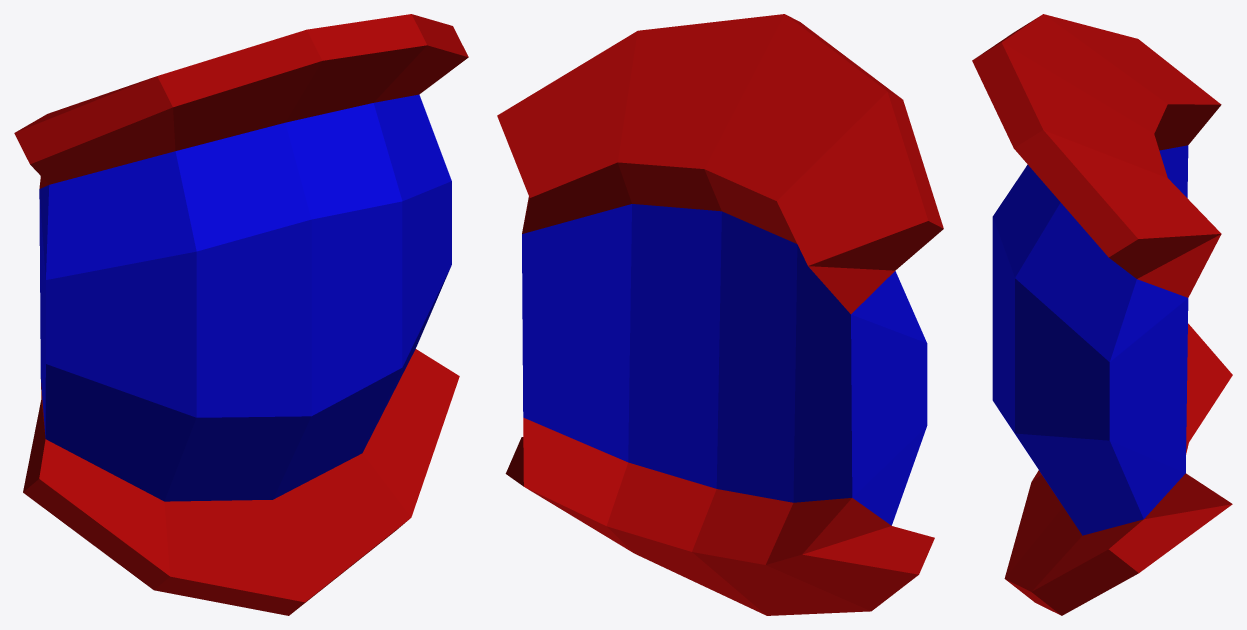
File: Chr_KneeAttachLeft_Static_08.fbx
3 views of the same model, side by side, from view 1: azimuth 30°, elevation 25°; view 2: azimuth 150°, elevation 25°; view 3: azimuth 270°, elevation 25° (orthographic). The views are drawn at different scales.
Visible parts, largest first — view 1: Chr_KneeAttachLeft_08; view 2: Chr_KneeAttachLeft_08; view 3: Chr_KneeAttachLeft_08.
Boxes of the visible parts, x1,y1,x2,y2 form: Chr_KneeAttachLeft_08: [14, 14, 468, 615]; Chr_KneeAttachLeft_08: [497, 14, 943, 615]; Chr_KneeAttachLeft_08: [972, 14, 1232, 615].
Size of the model in its own units: 16.64 by 21.71 by 9.16.
